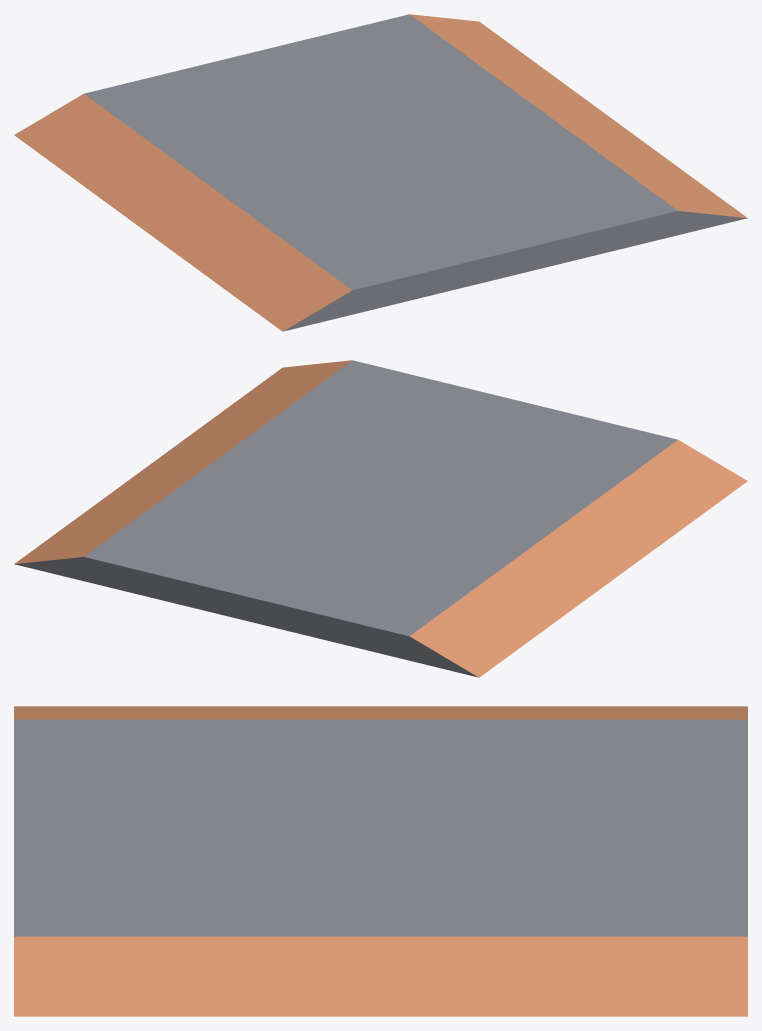
File: path_short.fbx
3 views of the same model, one above another, from view 1: azimuth 30°, elevation 25°; view 2: azimuth 150°, elevation 25°; view 3: azimuth 270°, elevation 25° (orthographic). The views are drawn at different scales.
Visible parts, largest first — view 1: path_short; view 2: path_short; view 3: path_short.
Part boxes in pixels (x1=…): path_short: x1=14, y1=14, x2=747, y2=331; path_short: x1=14, y1=360, x2=747, y2=677; path_short: x1=14, y1=706, x2=747, y2=1016.
Size of the model in its own units: 2 by 0.1 by 2.
